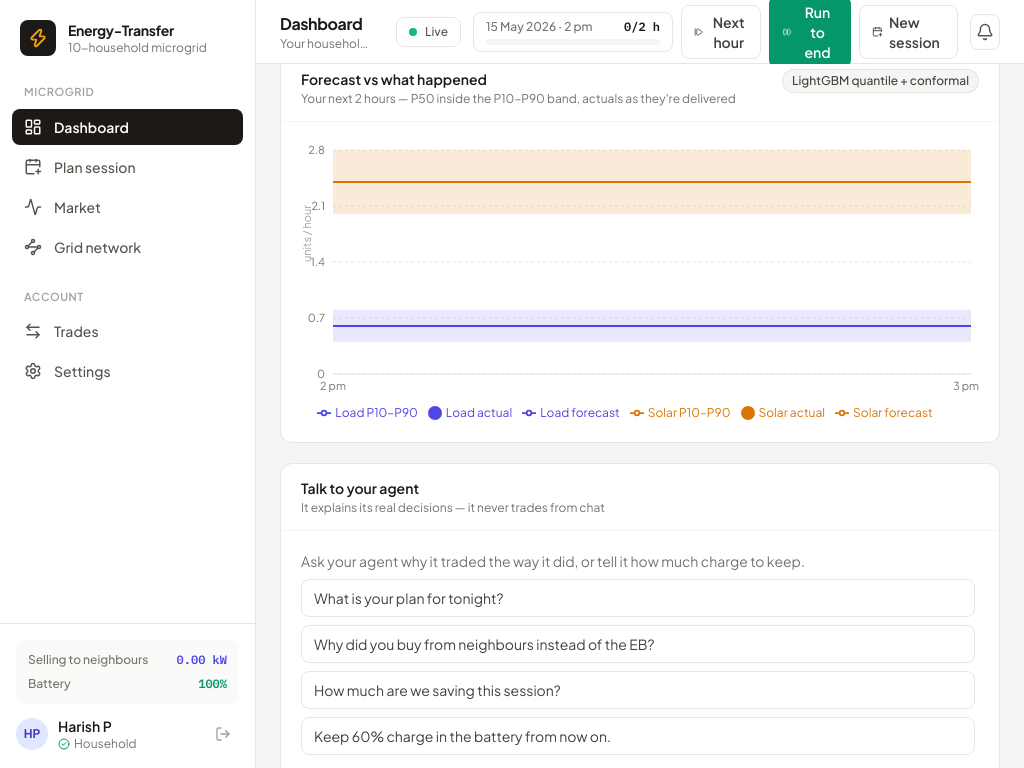
it: navigation › opens the market with every agent's messages
(page scrolled)
expect the heading "Dashboard" is shown: met, box [280,12,372,36]
Click the link "Market". click: (62, 206)
box: [24,198,101,216]
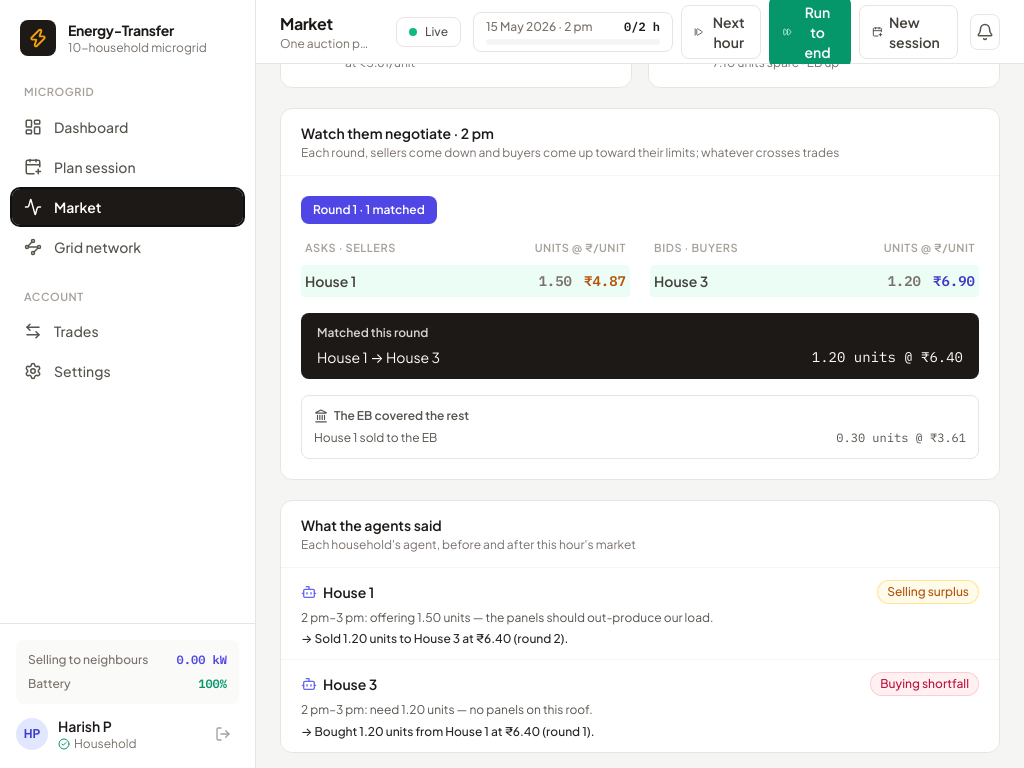
expect the heading "What the agents said" is shown: met, box [301,516,442,534]
expect the text "2 pm–3 pm: need 1.20 units — no panels on this roof." is shown: met, box [301,702,593,717]
expect the text "The EB covered the rest" is shown: met, box [314,408,469,422]
